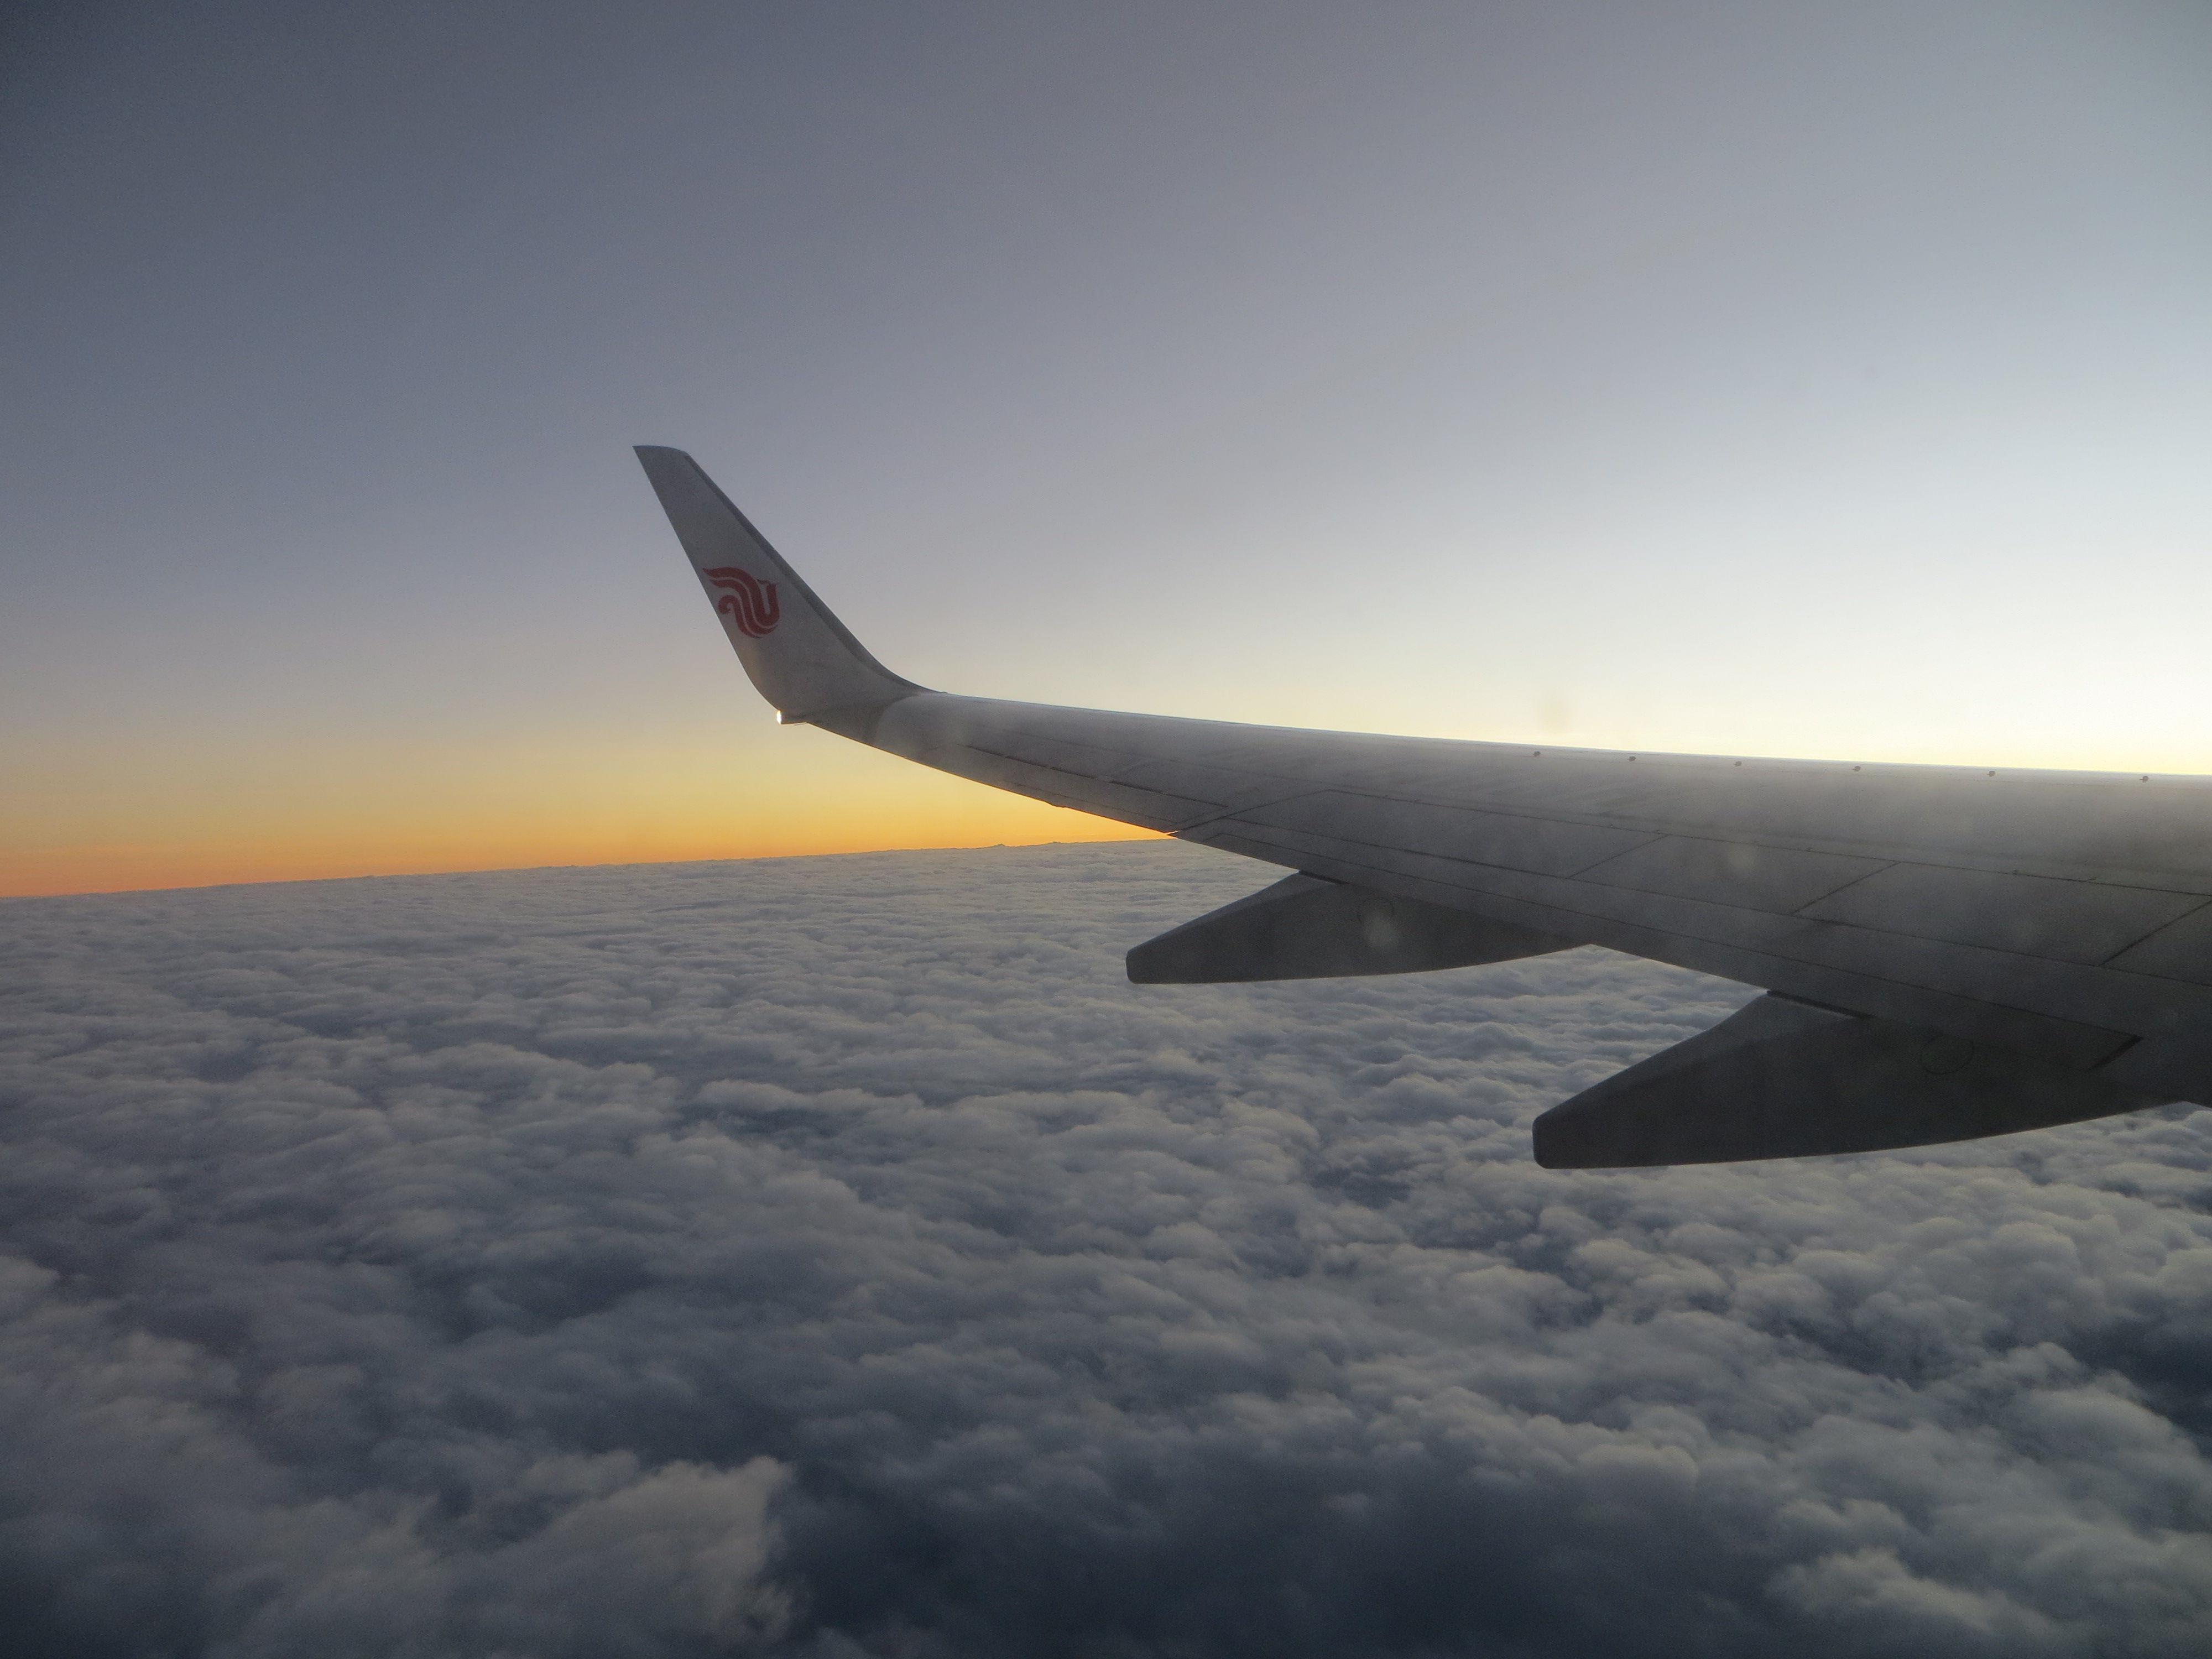airplane: (608, 396, 2212, 1159)
